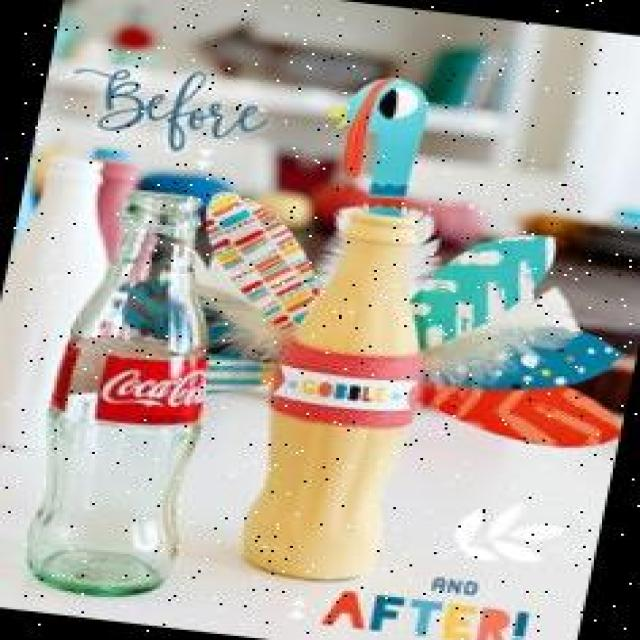coca-cola: (8, 162, 263, 601)
